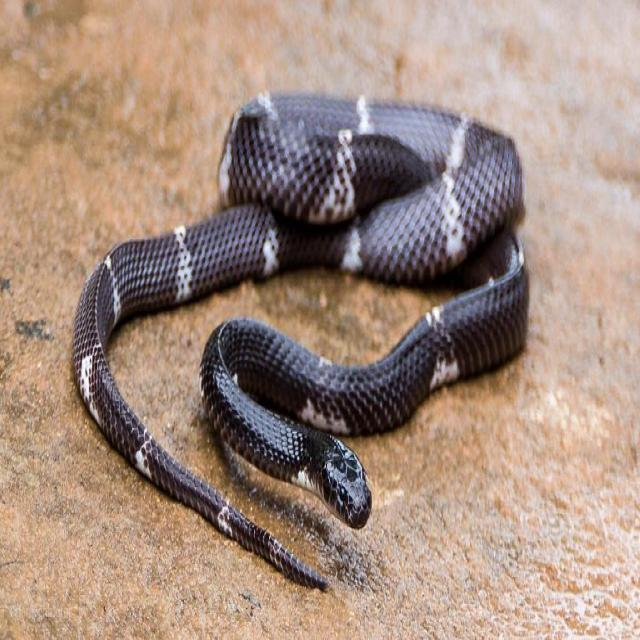Snake: (72, 88, 530, 592)
